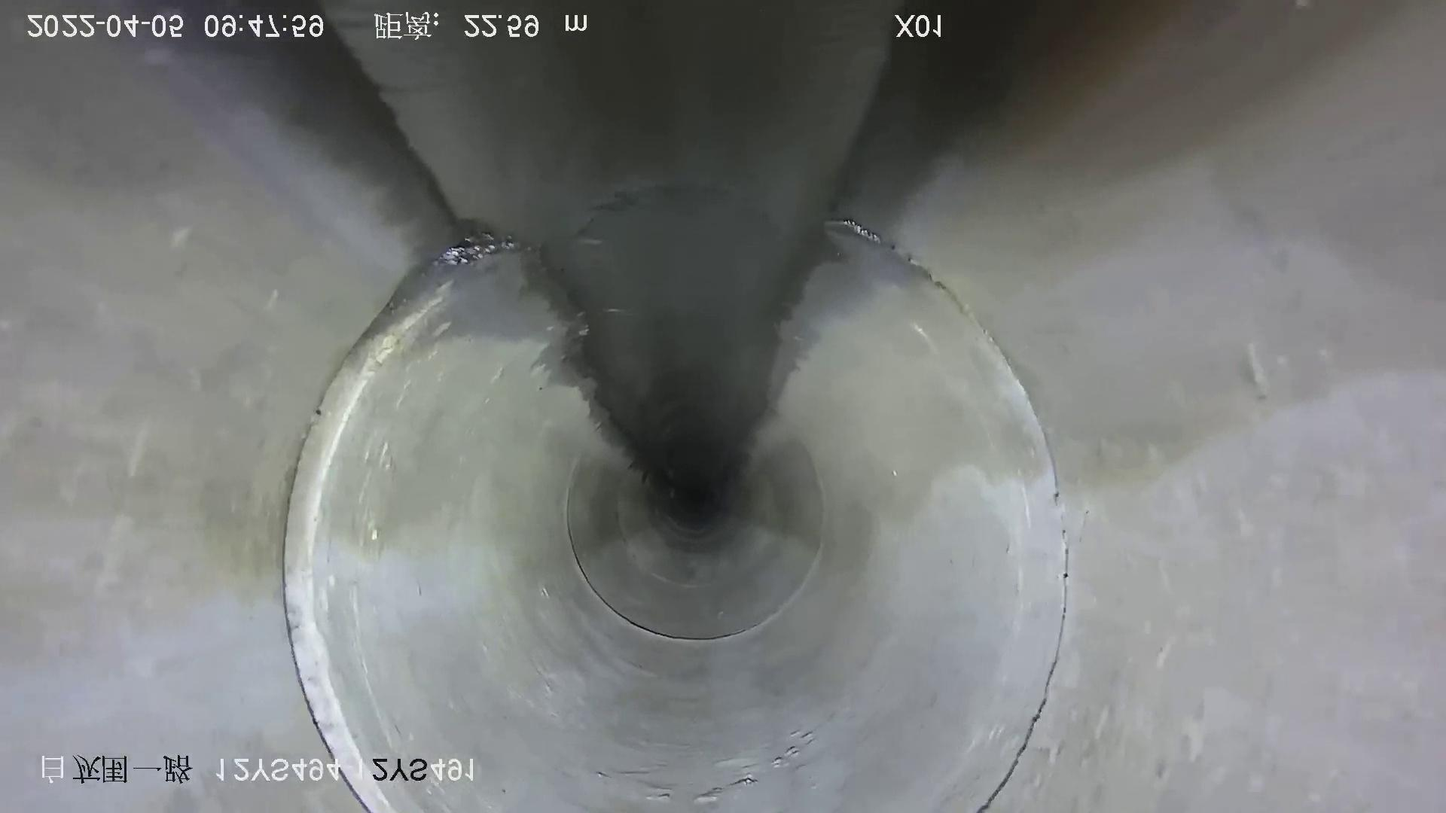CKTJ: (282, 233, 522, 813)
